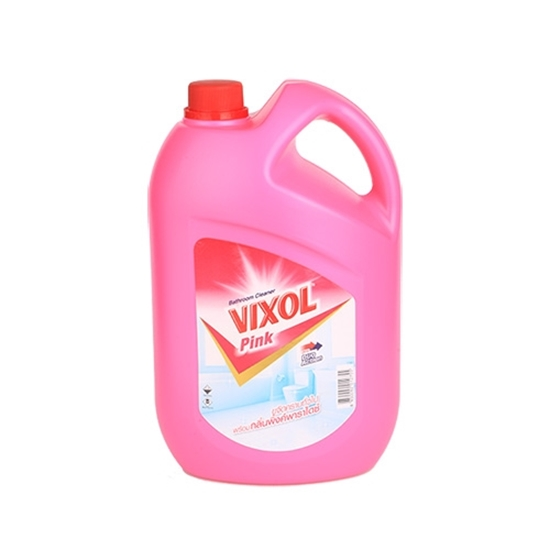Cleaning_solution: (138, 68, 408, 494)
